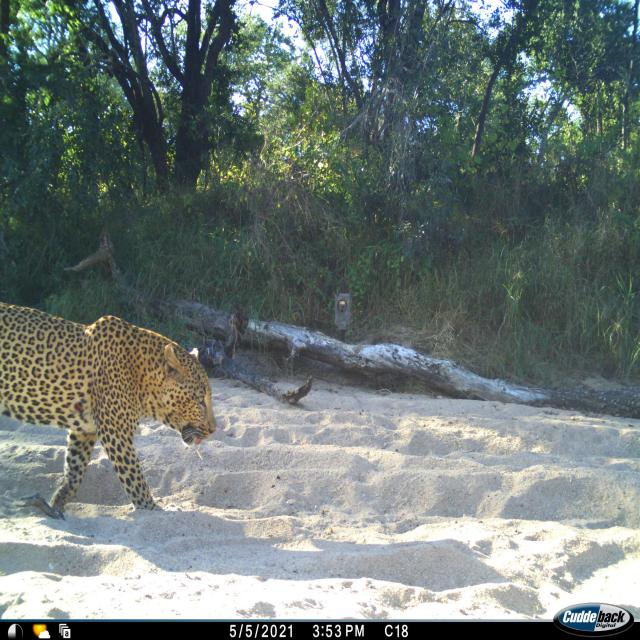Leopard: (2, 312, 219, 538)
